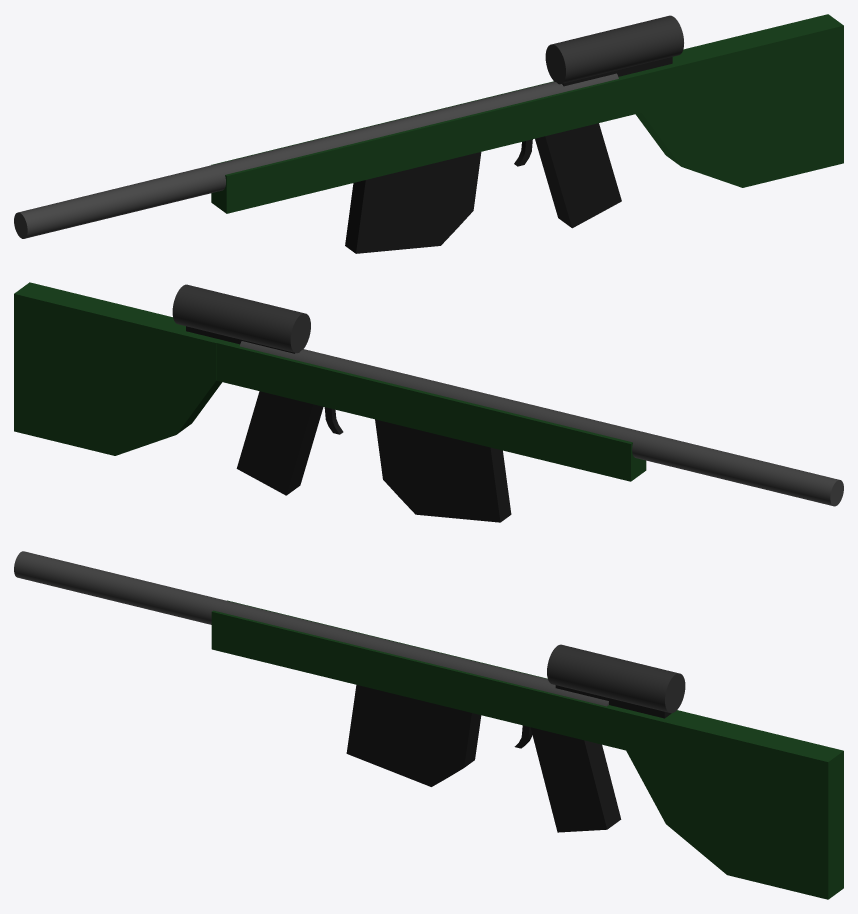
The model's file is Sniper.dae.
3 renders of one model, top to bottom at view 1: azimuth 30°, elevation 25°; view 2: azimuth 150°, elevation 25°; view 3: azimuth 330°, elevation 25°, orthographic.
Parts seen in each view (by area): view 1: Cube.003, Cube.001, Cylinder, Cube, Cube.002, Cylinder.001, Cube.004; view 2: Cube.003, Cube.001, Cylinder, Cube, Cube.002, Cylinder.001; view 3: Cube.003, Cube.001, Cylinder, Cube, Cube.002, Cylinder.001, Cube.004.
Part boxes in pixels (x1,y1,x2,y2): Cube.003: [635, 14, 843, 187]; Cube.001: [211, 41, 725, 213]; Cylinder: [14, 73, 618, 238]; Cube: [345, 152, 481, 253]; Cube.002: [535, 123, 621, 228]; Cylinder.001: [545, 15, 683, 84]; Cube.004: [562, 57, 672, 86]; Cube.003: [14, 282, 222, 455]; Cube.001: [216, 340, 646, 481]; Cylinder: [240, 341, 843, 506]; Cube: [375, 419, 511, 522]; Cube.002: [236, 391, 323, 495]; Cylinder.001: [172, 284, 310, 353]; Cube.003: [626, 710, 843, 899]; Cube.001: [211, 600, 724, 765]; Cylinder: [14, 551, 608, 706]; Cube: [346, 685, 481, 786]; Cube.002: [530, 727, 621, 832]; Cylinder.001: [547, 644, 685, 713]; Cube.004: [555, 685, 671, 718].
Size of the model in its own units: 1.38 by 0.06 by 0.2906.
Materials: 4 (1 with a texture image).
